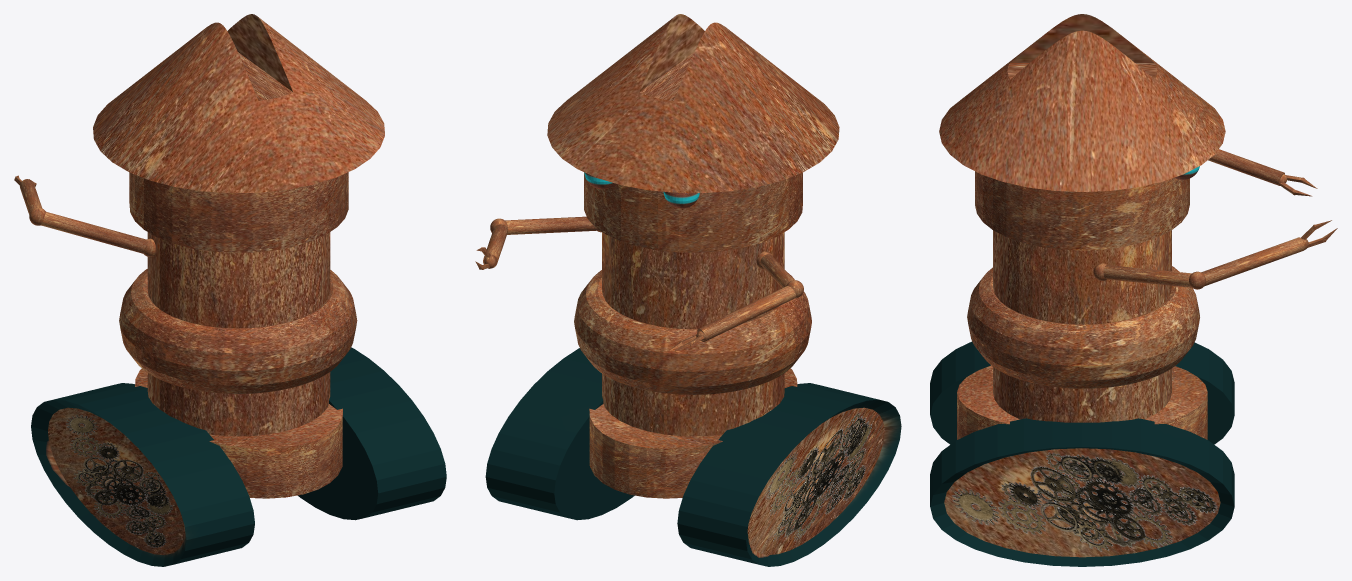
File: Lobo.gltf
The picture shows the model from 3 angles, left to right: view 1: azimuth 30°, elevation 25°; view 2: azimuth 150°, elevation 25°; view 3: azimuth 270°, elevation 25°; orthographic projection. The views are drawn at different scales.
Visible parts, largest first — view 1: Leg, Head, Body2, Body, Arm.L; view 2: Leg, Head, Body2, Body, Arm.L, Arm.R; view 3: Leg, Head, Body2, Body, Arm.R, Arm.L.
Part boxes in pixels (x1,y1,x2,y2): Leg: (31,347,446,566); Head: (93,14,384,252); Body2: (147,232,330,436); Body: (119,269,357,393); Arm.L: (20,179,156,256); Leg: (485,348,901,566); Head: (547,14,839,252); Body2: (602,232,784,436); Body: (574,270,811,394); Arm.L: (697,251,803,341); Arm.R: (483,216,601,267); Leg: (930,341,1234,566); Head: (939,14,1225,250); Body2: (993,230,1171,422); Body: (967,266,1199,388); Arm.R: (1093,237,1304,289); Arm.L: (1208,149,1284,185).
Bounding box in the file's own units: 1.1 × 1.71 × 1.31.
Materials: 3 (3 with a texture image).
